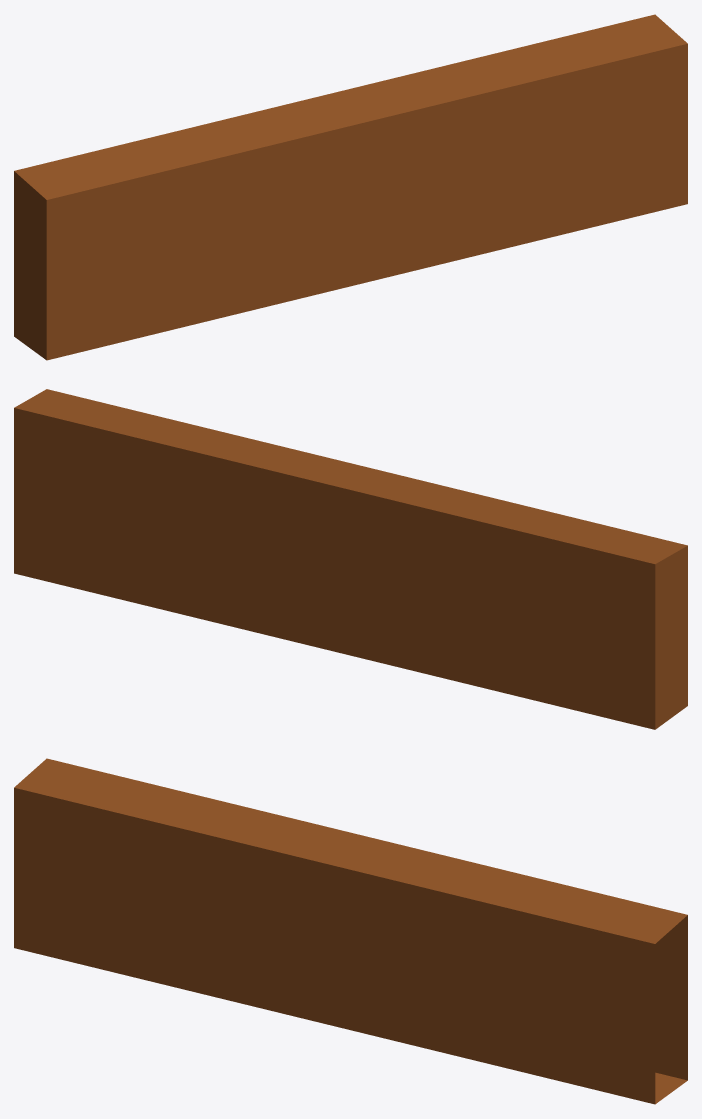
Rendered from wandbalken_start.FBX.
3 views of the same model, one above another, from view 1: azimuth 30°, elevation 25°; view 2: azimuth 150°, elevation 25°; view 3: azimuth 330°, elevation 25° (orthographic).
Parts seen in each view (by area): view 1: wandbalken_start; view 2: wandbalken_start; view 3: wandbalken_start.
Part boxes in pixels (<box>): wandbalken_start: <box>14,14,687,360</box>; wandbalken_start: <box>14,389,687,729</box>; wandbalken_start: <box>14,758,687,1104</box>.
Bounding box in the file's own units: 7.9 × 1.95 × 0.7.
